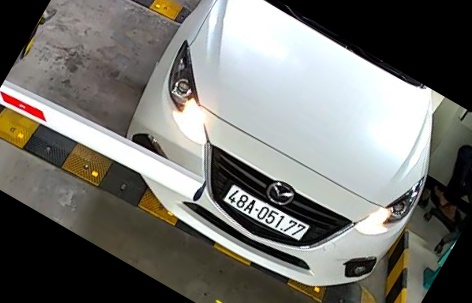plate: (225, 183, 308, 247)
